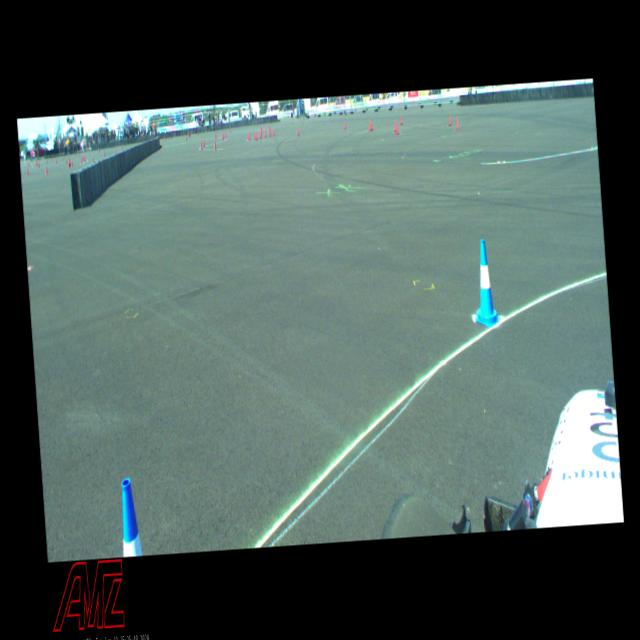blue_cone: (469, 238, 501, 328), (119, 477, 142, 557)
unknown_cone: (454, 116, 458, 129), (395, 121, 399, 134), (393, 120, 396, 132), (448, 114, 451, 125), (44, 166, 48, 174), (399, 114, 402, 124), (343, 120, 346, 129), (296, 126, 299, 135), (370, 119, 372, 130), (26, 168, 29, 175), (368, 120, 370, 130), (214, 140, 216, 150), (200, 140, 202, 150), (272, 127, 274, 136)
